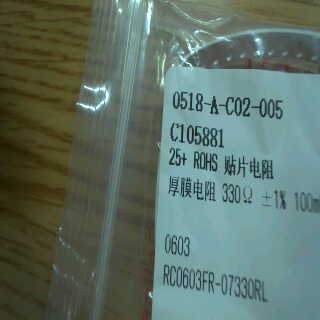330R: (218, 180, 262, 207)
